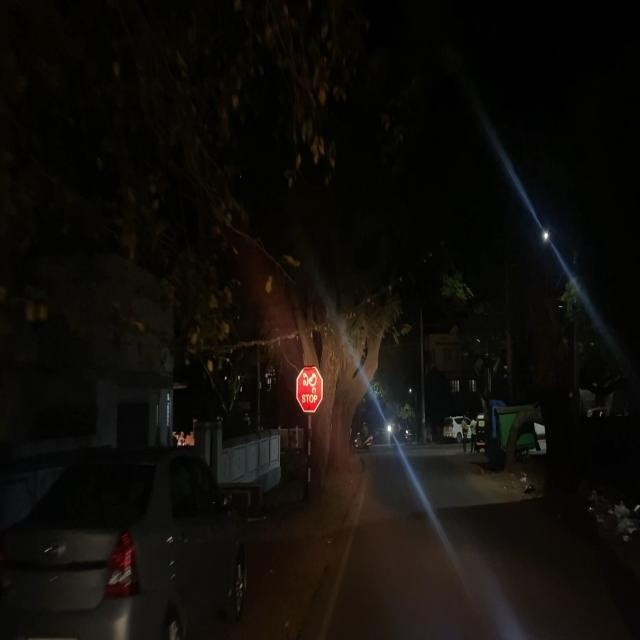bien_cam: (296, 365, 323, 413)
